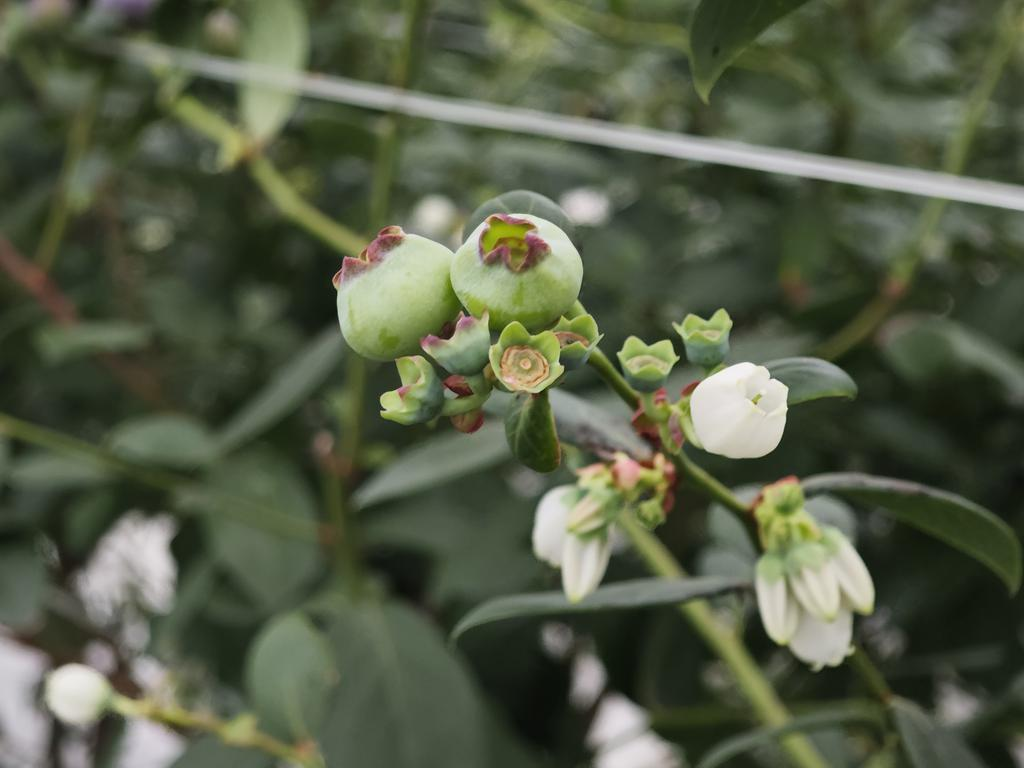UnripeBlueBerry: (329, 229, 461, 364), (450, 208, 588, 330)
